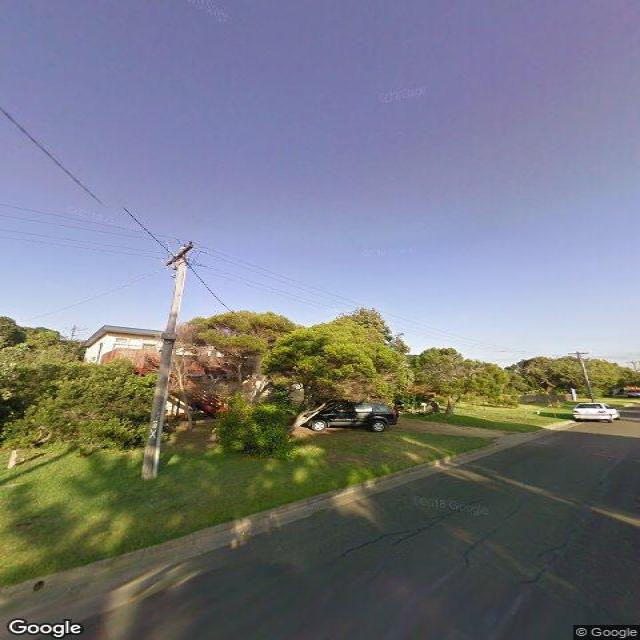crossarm: (162, 241, 197, 267), (566, 351, 588, 355)
mid mount suitable pole: (136, 240, 200, 482)
timber-pole: (140, 246, 188, 481), (576, 351, 597, 403)
